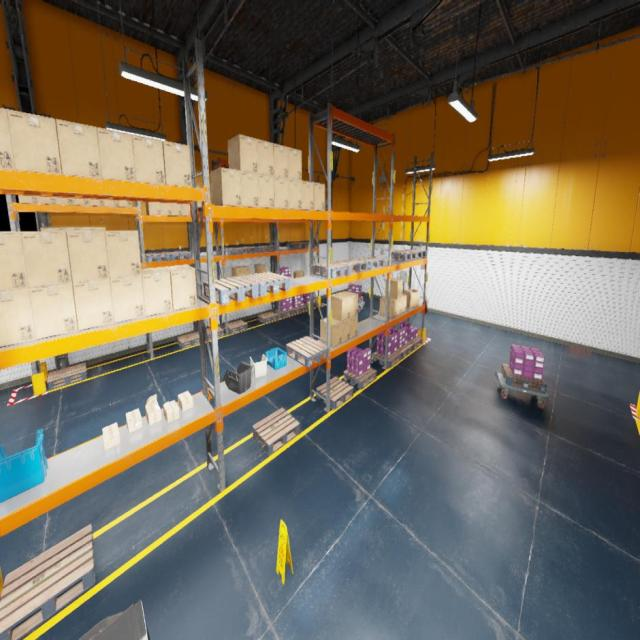box: (7, 109, 62, 174), (21, 232, 72, 288), (30, 281, 78, 340), (57, 120, 102, 178), (66, 231, 110, 282), (73, 278, 114, 331), (0, 288, 36, 347), (98, 127, 136, 182), (102, 230, 142, 278), (132, 134, 166, 185), (110, 275, 146, 323), (0, 232, 29, 291), (164, 265, 198, 310), (142, 268, 173, 316), (163, 140, 191, 187), (210, 167, 242, 206), (227, 134, 258, 173), (0, 107, 15, 170), (256, 139, 274, 176), (320, 318, 342, 347), (241, 172, 259, 207), (331, 292, 351, 320), (258, 174, 274, 208), (339, 291, 358, 318), (145, 394, 161, 426), (102, 423, 120, 450), (274, 144, 288, 178), (274, 176, 288, 209), (288, 147, 302, 180), (288, 178, 302, 209), (379, 296, 397, 318), (163, 401, 180, 424), (301, 180, 314, 210), (126, 409, 142, 433), (386, 278, 402, 298), (178, 390, 192, 412), (314, 182, 325, 210), (404, 289, 420, 308), (390, 297, 403, 315), (342, 318, 350, 342), (146, 202, 160, 215), (350, 316, 357, 338), (38, 196, 56, 204), (160, 203, 172, 215), (171, 203, 182, 216), (18, 196, 38, 203), (56, 197, 73, 205), (73, 198, 89, 206), (254, 264, 266, 274), (232, 267, 244, 277), (104, 200, 119, 207), (89, 199, 104, 206), (182, 203, 190, 216), (119, 200, 132, 207), (240, 266, 250, 275), (294, 270, 304, 278), (402, 294, 406, 313), (40, 227, 59, 231), (58, 228, 75, 232), (75, 227, 90, 231), (90, 227, 106, 230), (197, 202, 201, 207), (196, 185, 200, 187), (210, 201, 212, 204), (201, 202, 201, 206)
forklift: (78, 600, 150, 639)
pallets: (0, 524, 95, 640), (252, 408, 300, 455), (204, 277, 258, 305), (286, 336, 329, 368), (502, 363, 547, 393), (240, 272, 290, 296), (317, 377, 354, 409), (47, 362, 86, 390), (344, 368, 376, 390), (314, 262, 352, 279), (332, 259, 368, 274), (373, 351, 402, 368), (355, 257, 385, 270), (199, 326, 224, 341), (177, 332, 200, 348), (224, 320, 247, 334), (397, 342, 413, 359), (258, 311, 278, 324), (401, 249, 426, 259), (391, 250, 416, 260), (145, 252, 170, 262), (407, 336, 423, 351), (166, 251, 192, 260), (235, 246, 258, 254), (275, 309, 295, 318), (219, 248, 241, 255), (254, 245, 274, 252), (286, 242, 306, 248), (292, 306, 306, 314), (304, 302, 317, 310), (300, 242, 318, 247), (358, 296, 363, 304)
